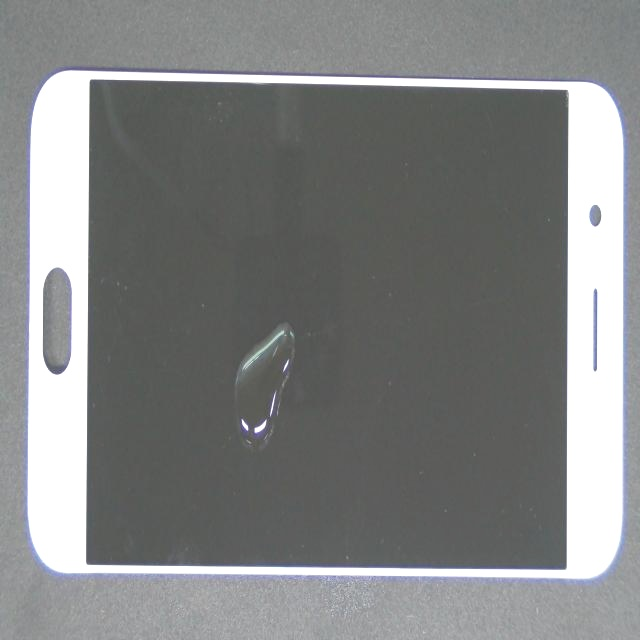oil: (139, 232, 427, 566)
